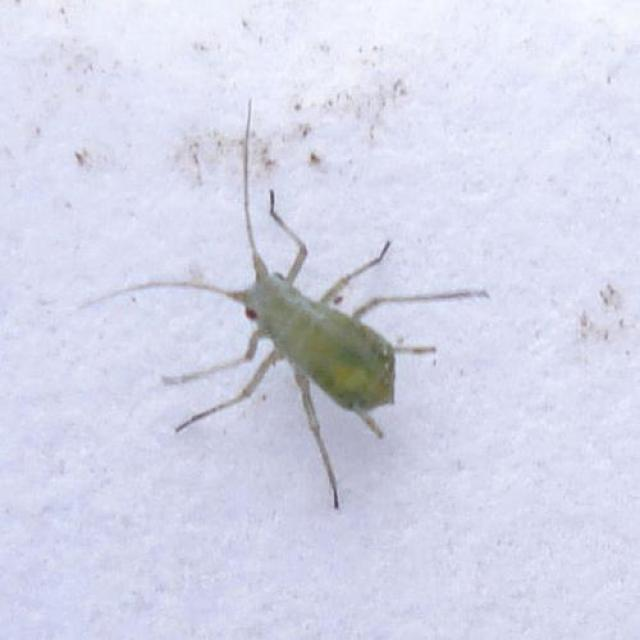Aphids: (120, 148, 487, 493)
